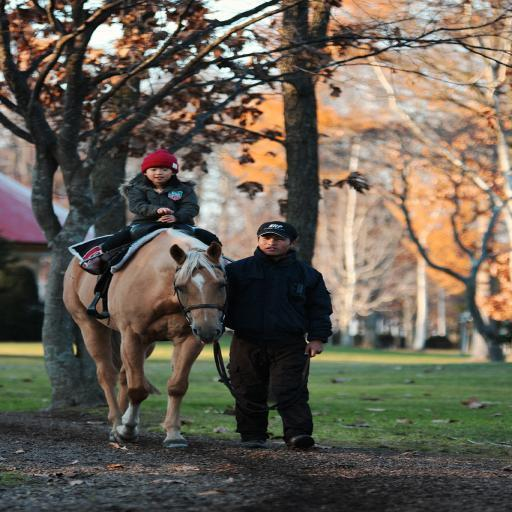horse: (60, 226, 230, 450)
